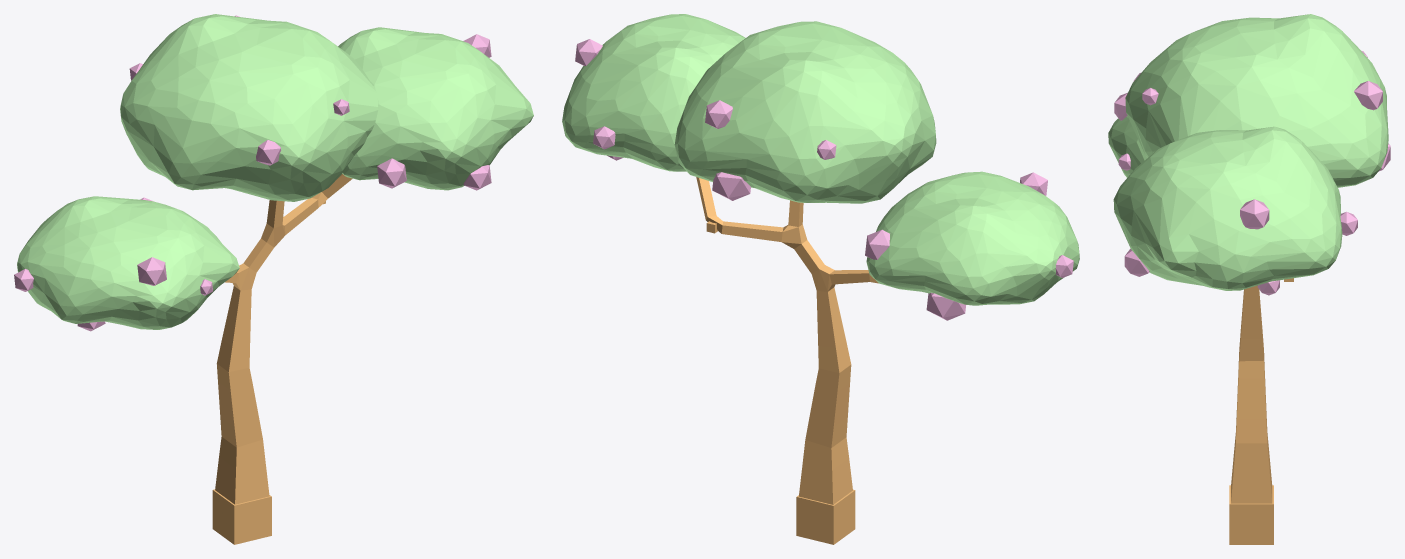
Rendered from tree1.gltf.
3 views of the same model, side by side, from view 1: azimuth 30°, elevation 25°; view 2: azimuth 150°, elevation 25°; view 3: azimuth 270°, elevation 25° (orthographic). The views are drawn at different scales.
Parts seen in each view (by area): view 1: Tree2, Tree2.002, Tree2.001; view 2: Tree2, Tree2.002, Tree2.001; view 3: Tree2, Tree2.002, Tree2.001.
Part boxes in pixels (x1=…): Tree2: x1=17, y1=14, x2=533, y2=329; Tree2.002: x1=212, y1=174, x2=352, y2=544; Tree2.001: x1=14, y1=15, x2=491, y2=331; Tree2: x1=562, y1=14, x2=1079, y2=305; Tree2.002: x1=696, y1=177, x2=878, y2=544; Tree2.001: x1=575, y1=39, x2=1073, y2=320; Tree2: x1=1108, y1=14, x2=1388, y2=290; Tree2.002: x1=1229, y1=278, x2=1293, y2=544; Tree2.001: x1=1114, y1=51, x2=1390, y2=295.
Bounding box in the file's own units: 12.03 × 11.52 × 5.74.
